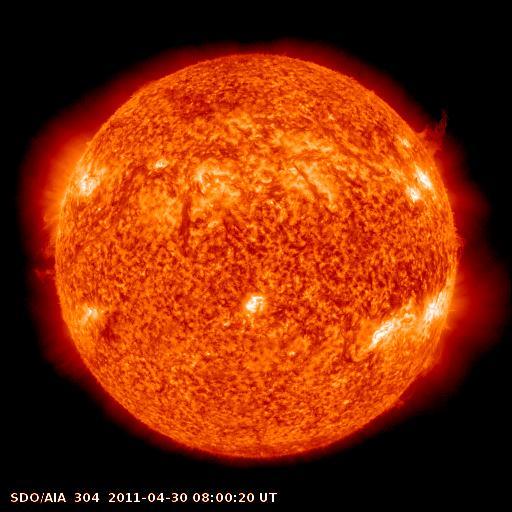prominence: (26, 221, 69, 291), (408, 96, 450, 166), (441, 222, 474, 275)
